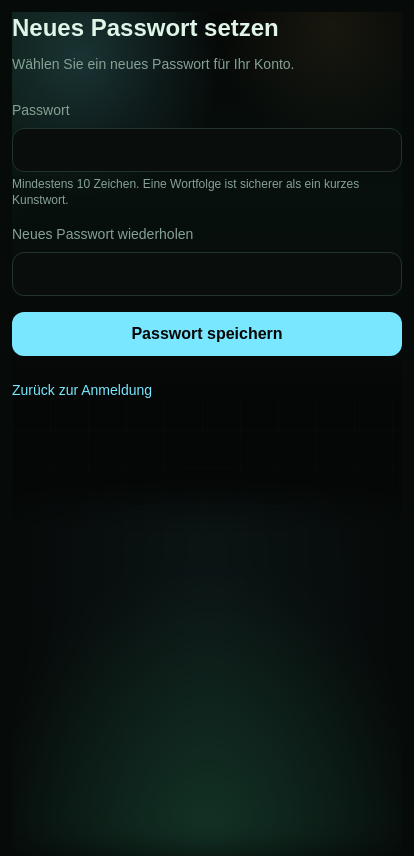
Scenario: Passwort zurücksetzen › sendet nur zwei identische sichere Passwörter
Type "korrekt pferd batterie" into the password field labelled "Passwort" at (207, 150), box [12, 128, 402, 172]
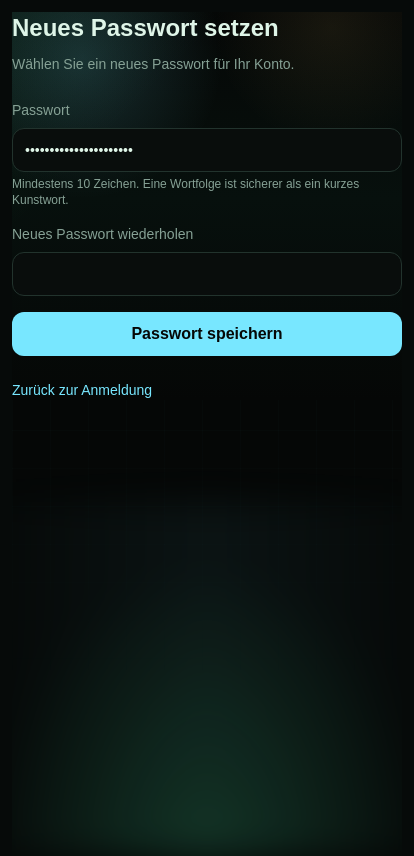
Type "korrekt pferd batterie" into the password field labelled "Neues Passwort wiederholen" at (207, 274), box [12, 252, 402, 296]
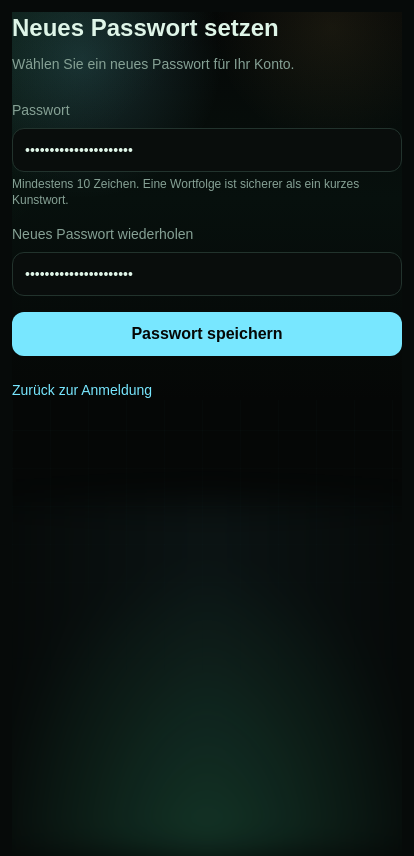
Click the button "Passwort speichern" at (207, 334), box [12, 312, 402, 356]
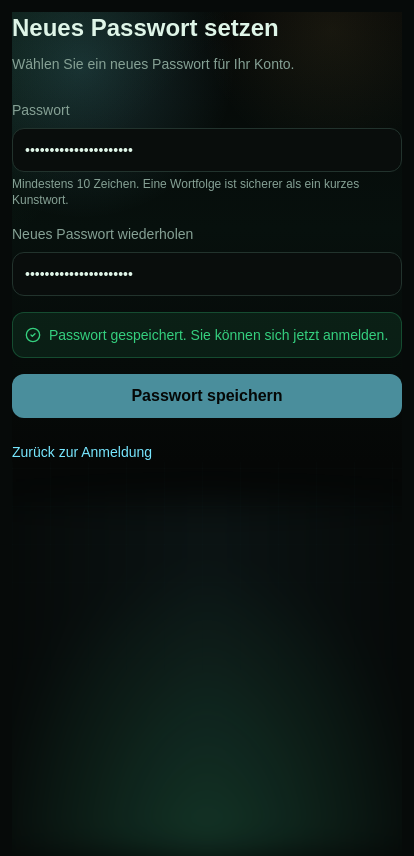
Result: the message shows "Passwort gespeichert" at [49, 327, 388, 343]
